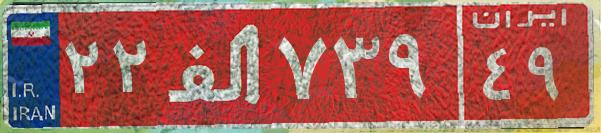2: (57, 26, 110, 107), (110, 28, 158, 105)
3: (330, 28, 385, 110)
4: (475, 38, 525, 113)
7: (273, 28, 330, 110)
9: (385, 28, 445, 110), (525, 38, 570, 115)
الف: (158, 15, 273, 115)
